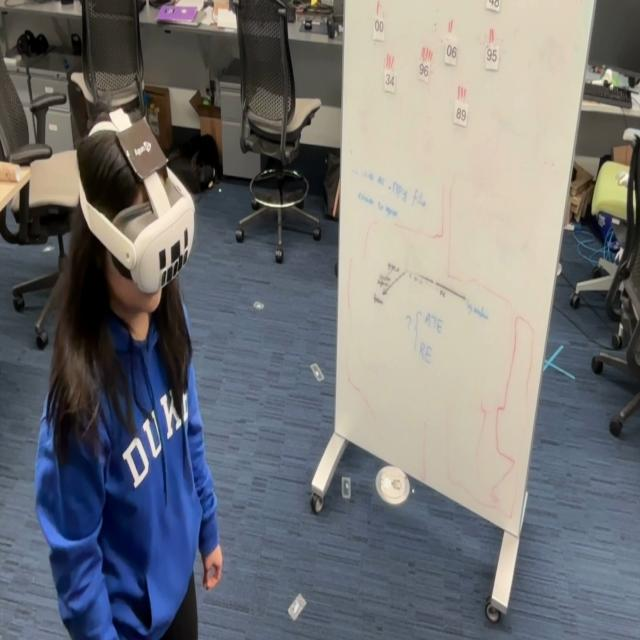Headset: (76, 116, 196, 295)
UnityLogo: (115, 113, 169, 183)
